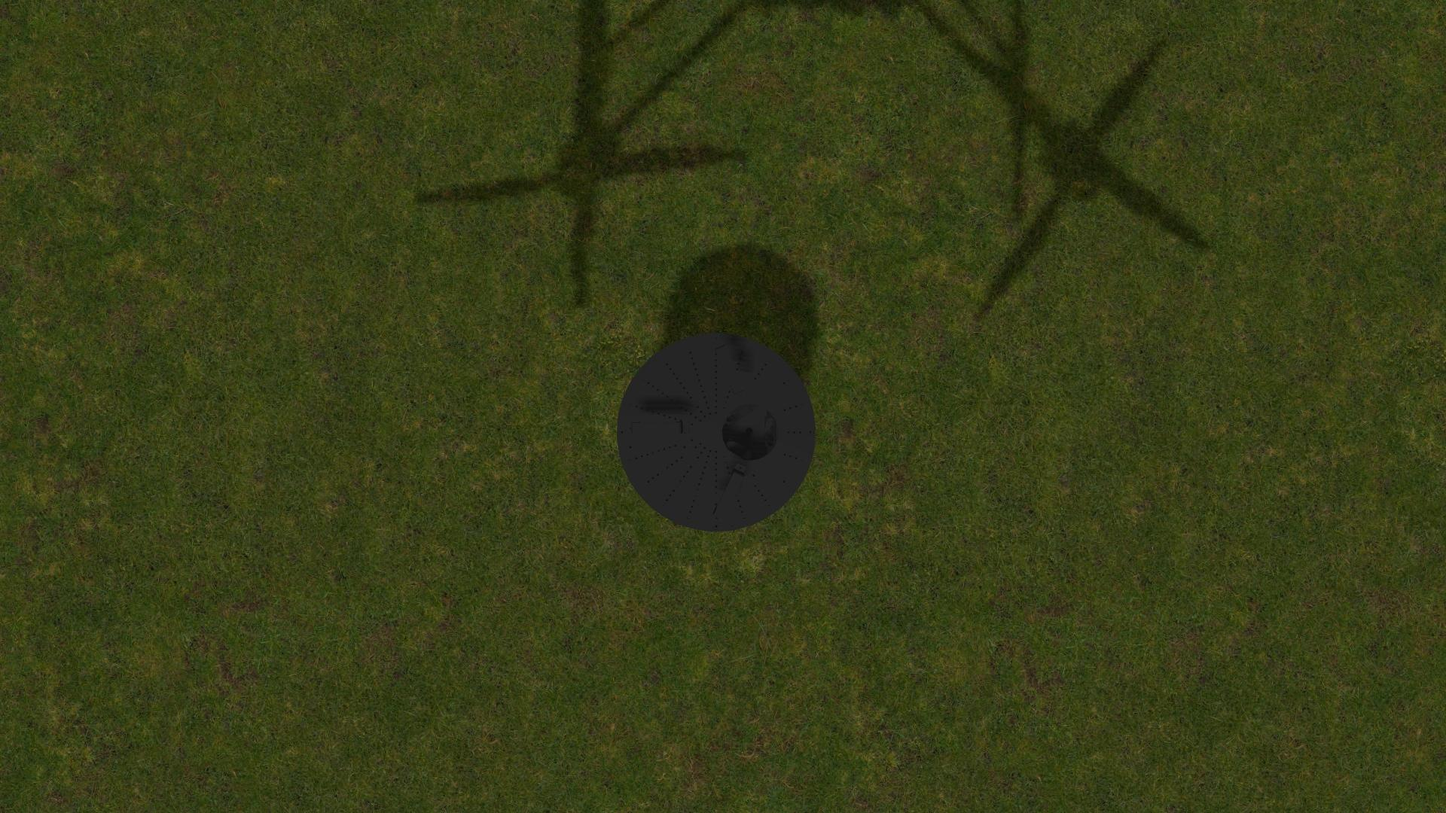alca: (711, 462, 747, 523), (713, 340, 747, 399), (627, 421, 690, 435)
armadilha: (617, 332, 816, 532)
